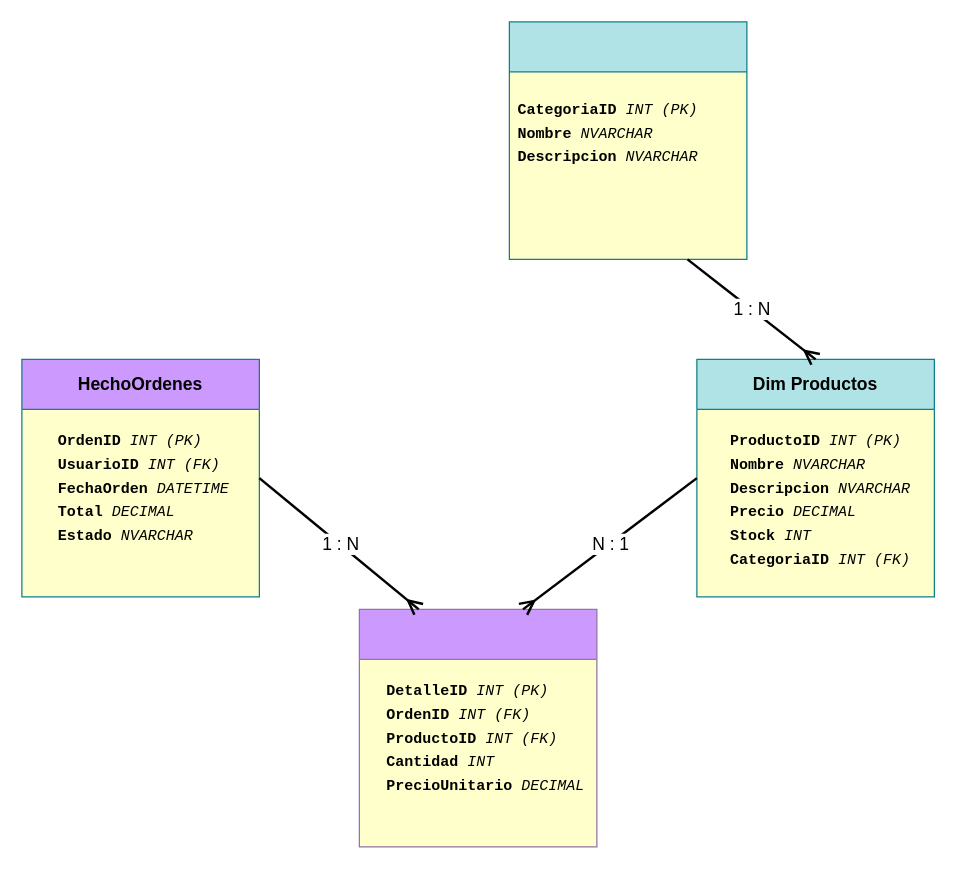
Some shapes in this 956 by 869 pixel diagram are drawn without their labels. The box of each missing label's shape, as (x1, y1, x2, y2) in pixels:
Dim Categorias: (508, 21, 747, 259)
HechoDetalleOrdenes: (358, 608, 597, 847)
